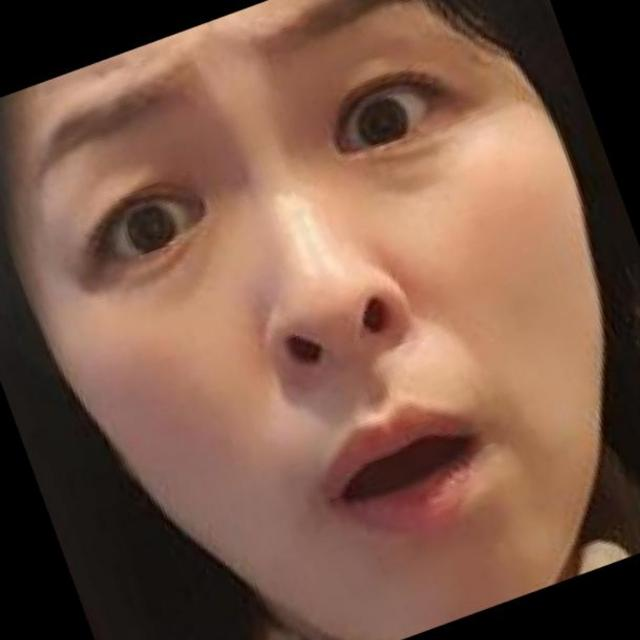Surprised: (58, 0, 545, 640)
